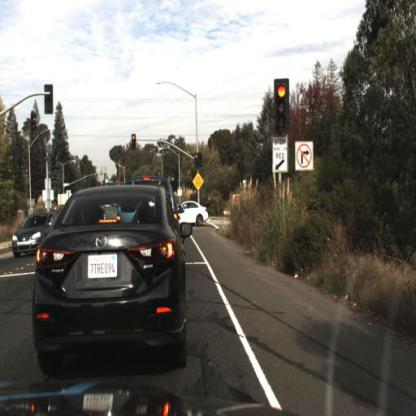car: (29, 183, 192, 378), (7, 209, 58, 259)
trafficLight-Red: (274, 79, 293, 136), (130, 131, 138, 152), (194, 152, 200, 169)
